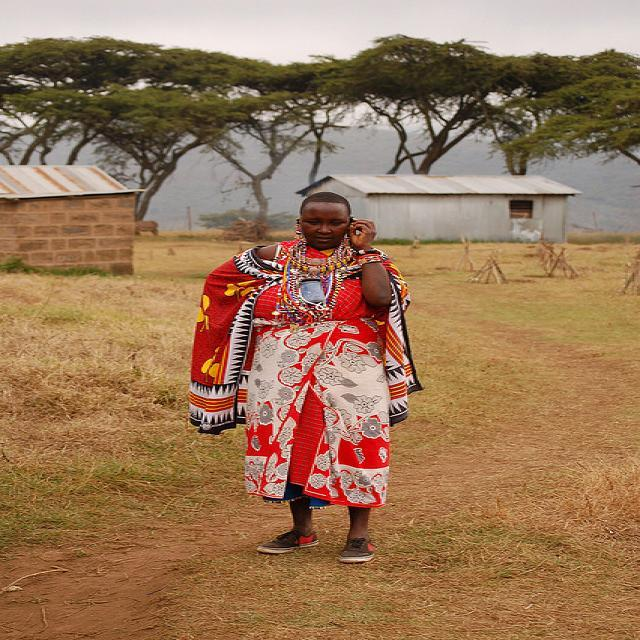cow: (134, 220, 156, 235)
